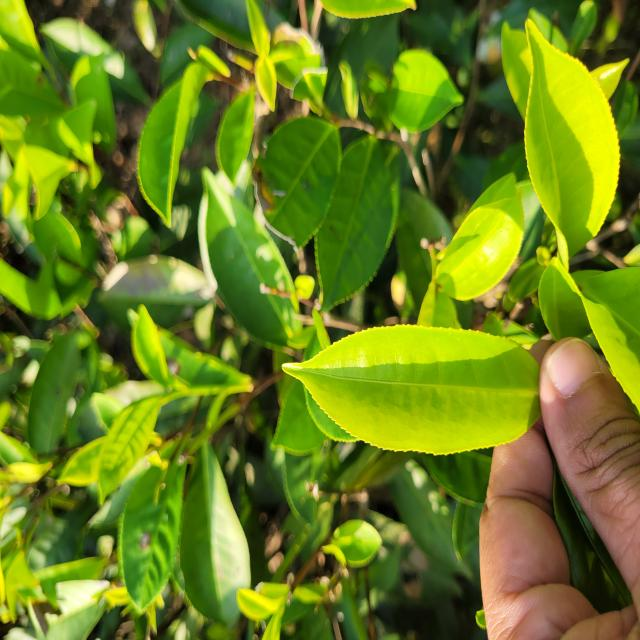Category B 2-4 days: (270, 278, 555, 484)
